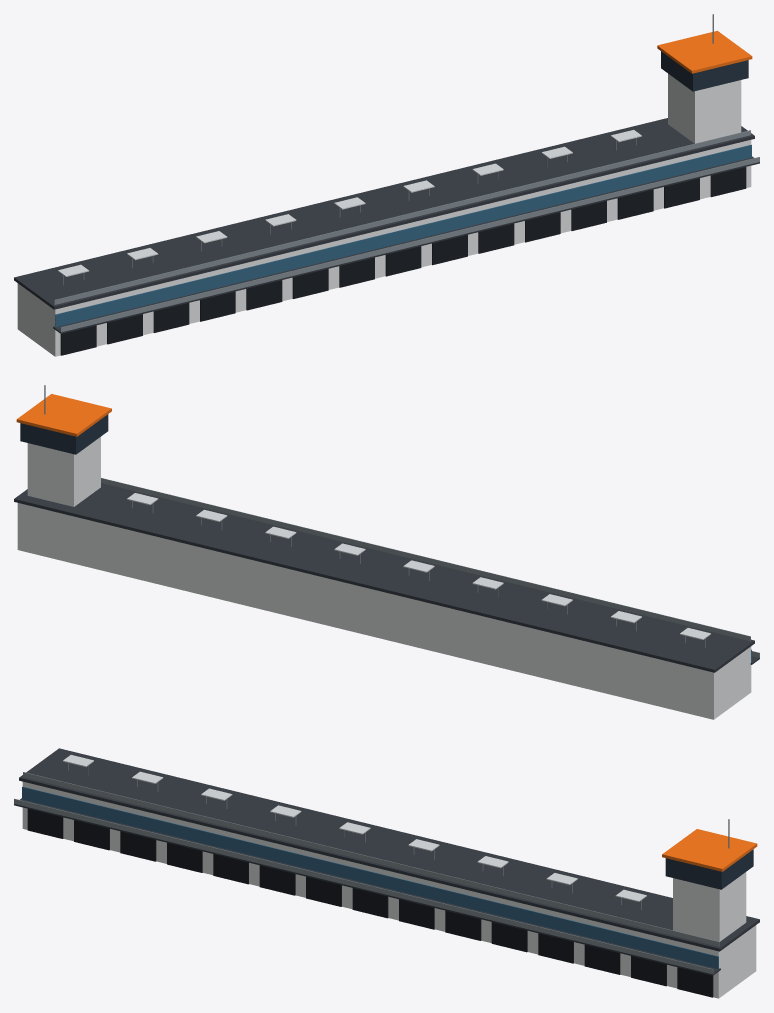
Rendered from pit_building.glb.
3 views of the same model, one above another, from view 1: azimuth 30°, elevation 25°; view 2: azimuth 150°, elevation 25°; view 3: azimuth 330°, elevation 25° (orthographic).
Visible parts, largest first — view 1: Cube.001; view 2: Cube.001; view 3: Cube.001.
Boxes of the visible parts, x1=… form: Cube.001: x1=14, y1=14, x2=759, y2=356; Cube.001: x1=14, y1=385, x2=759, y2=719; Cube.001: x1=14, y1=748, x2=759, y2=998.
Bounding box in the file's own units: 151 × 32.6 × 17.2.
